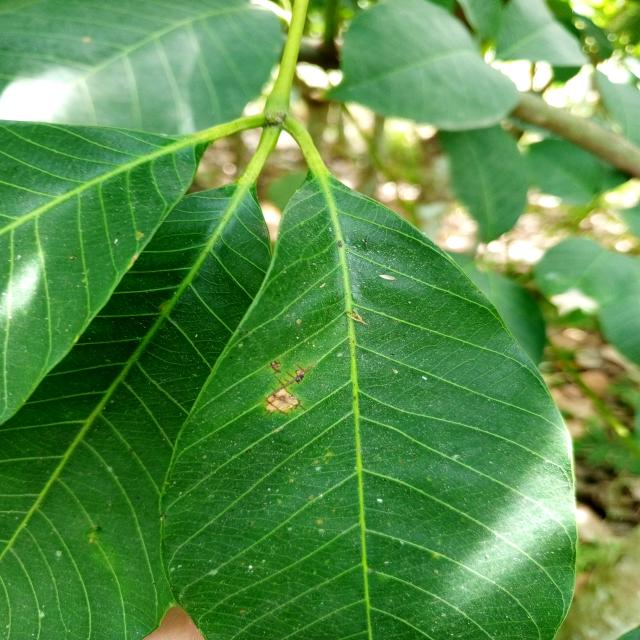Corynespora: (265, 364, 312, 400)
Leaf-Blight: (267, 389, 298, 412)
